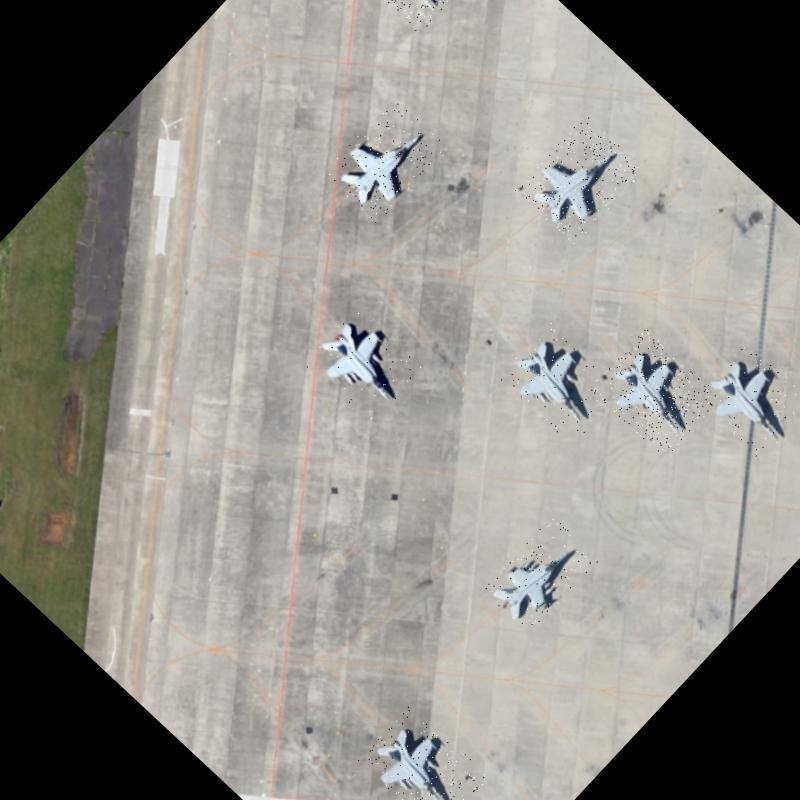A16: (589, 328, 721, 460), (514, 115, 644, 246), (302, 299, 431, 428), (497, 319, 626, 447), (322, 97, 450, 226), (482, 516, 600, 636), (693, 339, 800, 464), (356, 702, 490, 800), (341, 0, 473, 35)
